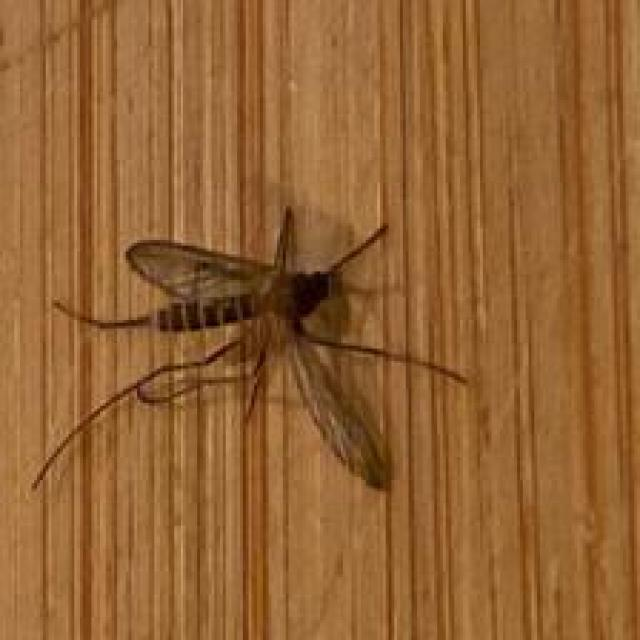Culex: (30, 204, 470, 496)
